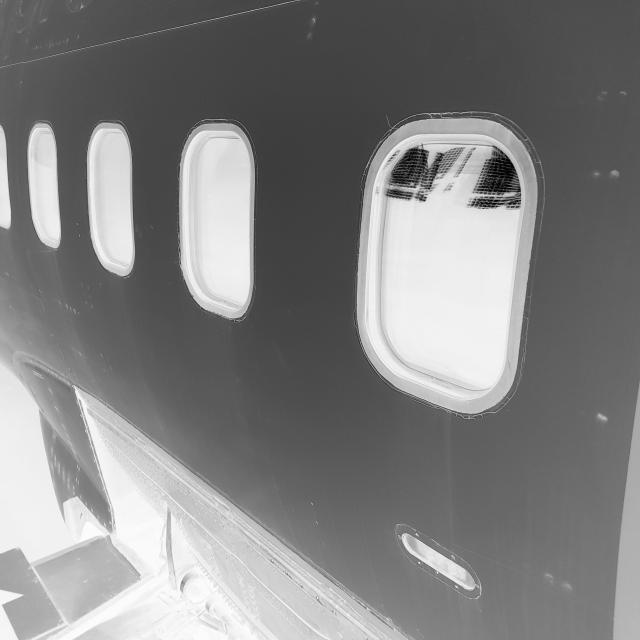crack: (380, 117, 407, 135)
